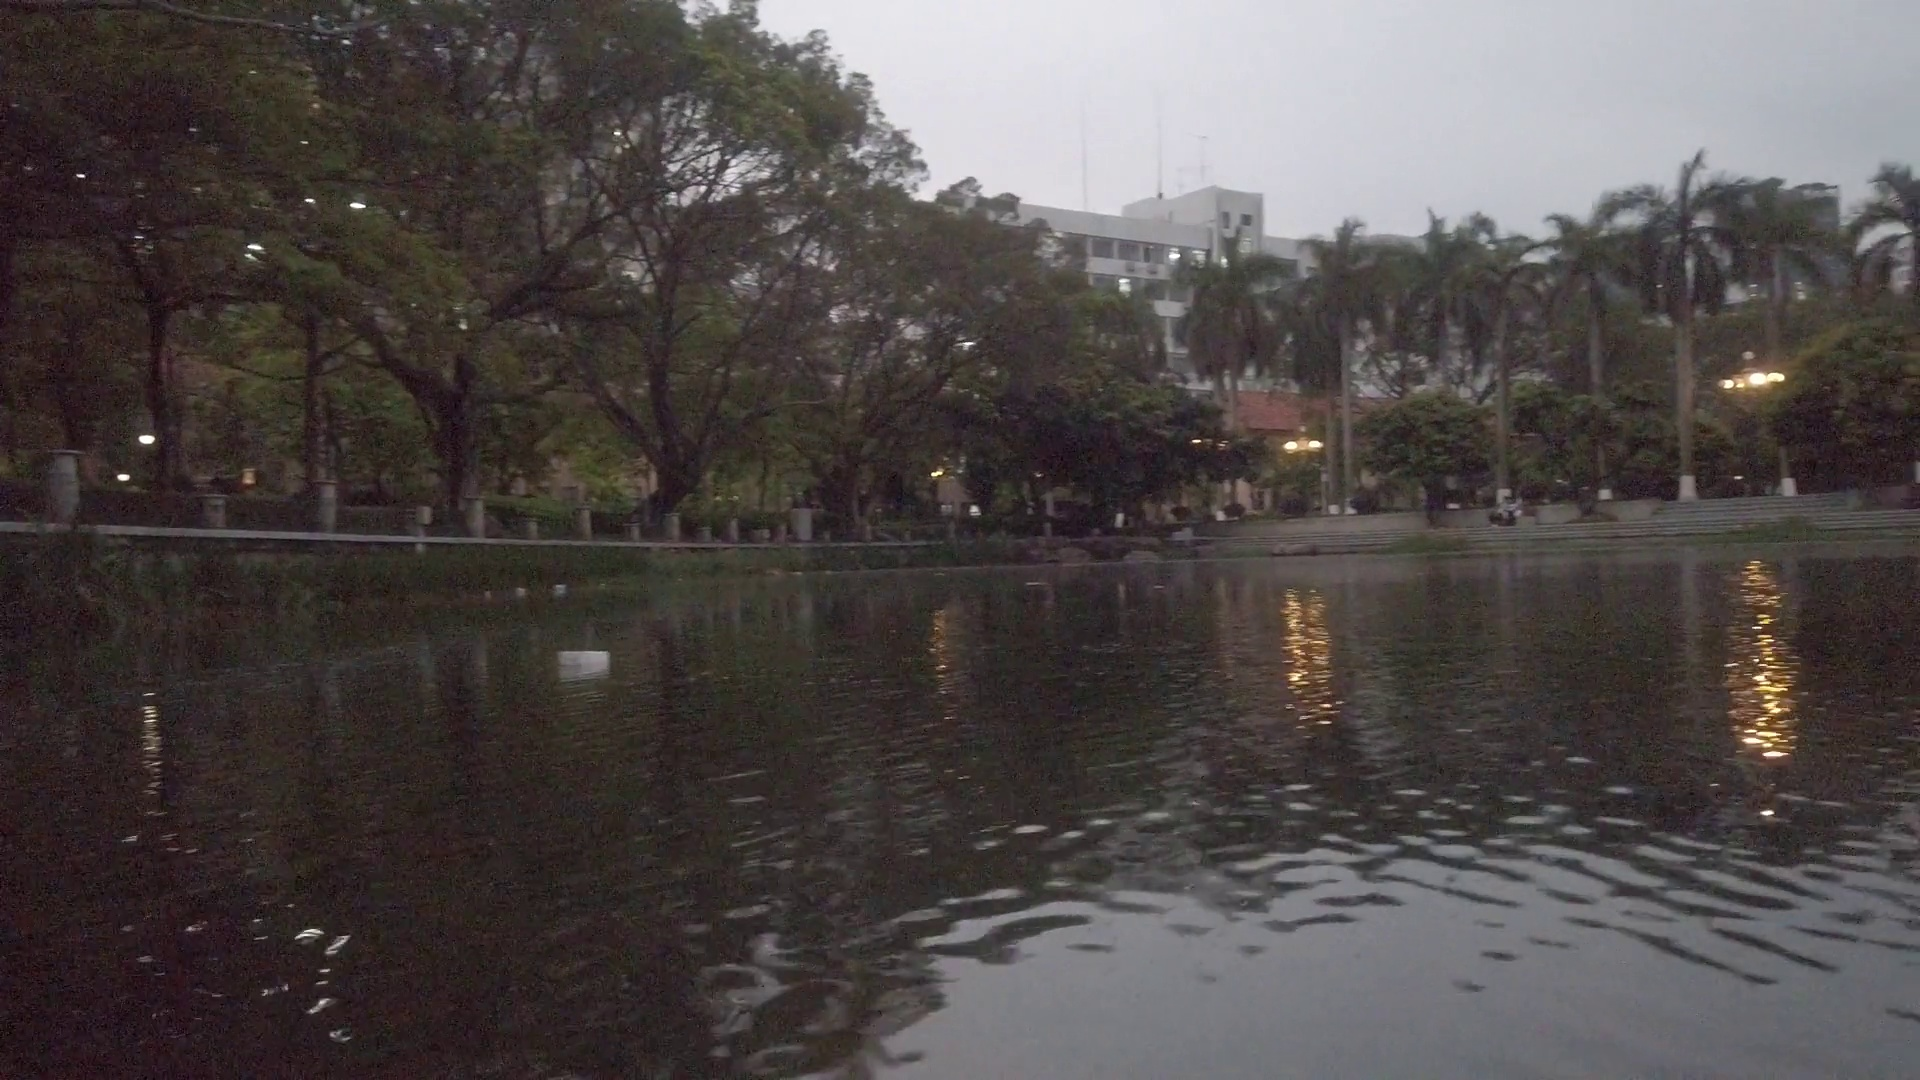carton: (556, 647, 611, 671)
